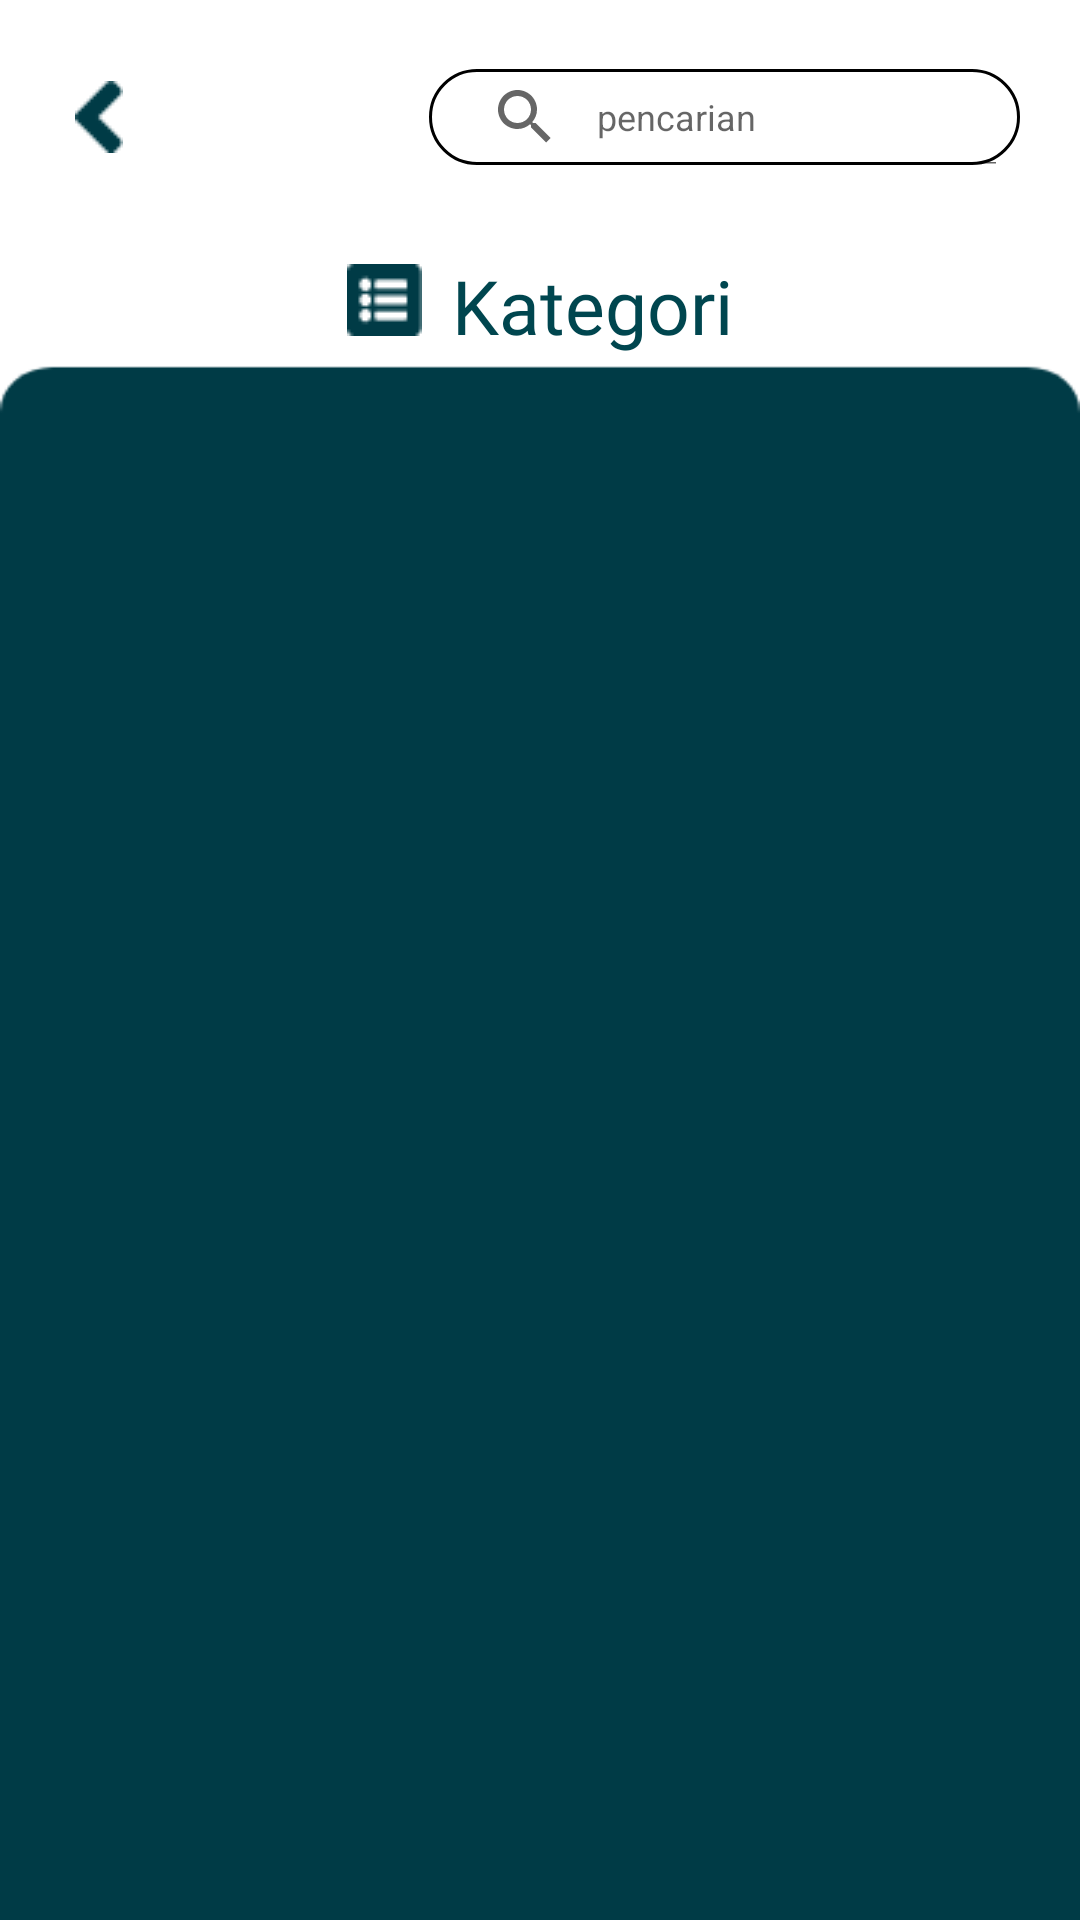

Icons on this 1080w x 1920h Android screen, each with its box as bbox=[x1, y1, x2, y2]:
btnleft: bbox=[75, 81, 123, 153]
list: bbox=[347, 264, 422, 336]
